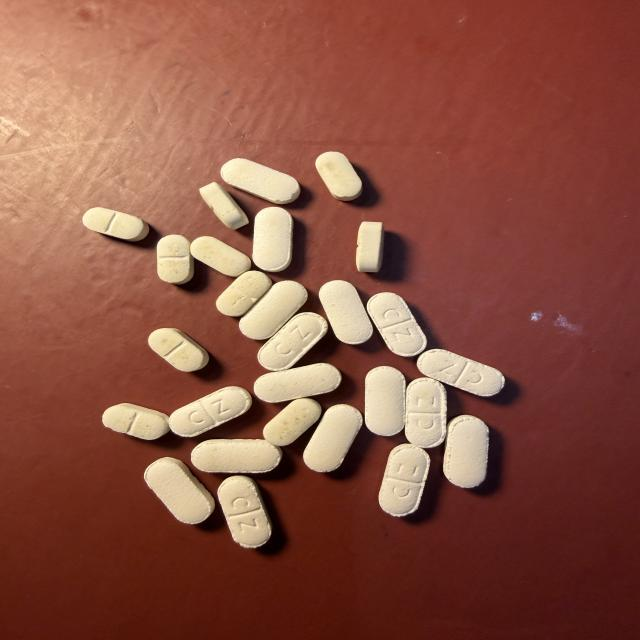pill: (144, 458, 215, 524), (417, 349, 504, 396), (170, 387, 252, 436), (258, 313, 327, 371), (239, 281, 307, 339), (304, 405, 362, 472), (218, 476, 271, 548), (367, 293, 426, 356), (379, 444, 430, 516), (221, 159, 300, 204), (254, 363, 341, 402), (319, 280, 372, 344), (444, 415, 488, 488), (192, 439, 281, 473), (406, 378, 446, 447), (365, 366, 405, 435), (264, 398, 321, 446), (148, 328, 209, 371), (253, 207, 293, 272), (216, 271, 272, 316), (191, 237, 251, 276), (103, 404, 169, 439), (316, 152, 362, 200), (200, 183, 248, 229), (83, 208, 148, 241), (157, 235, 193, 284), (356, 222, 384, 272)
